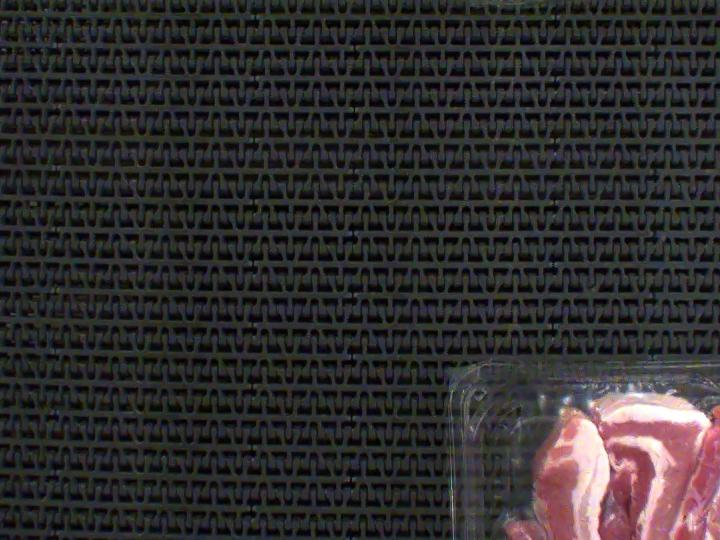unsealed: (497, 365, 720, 540)
